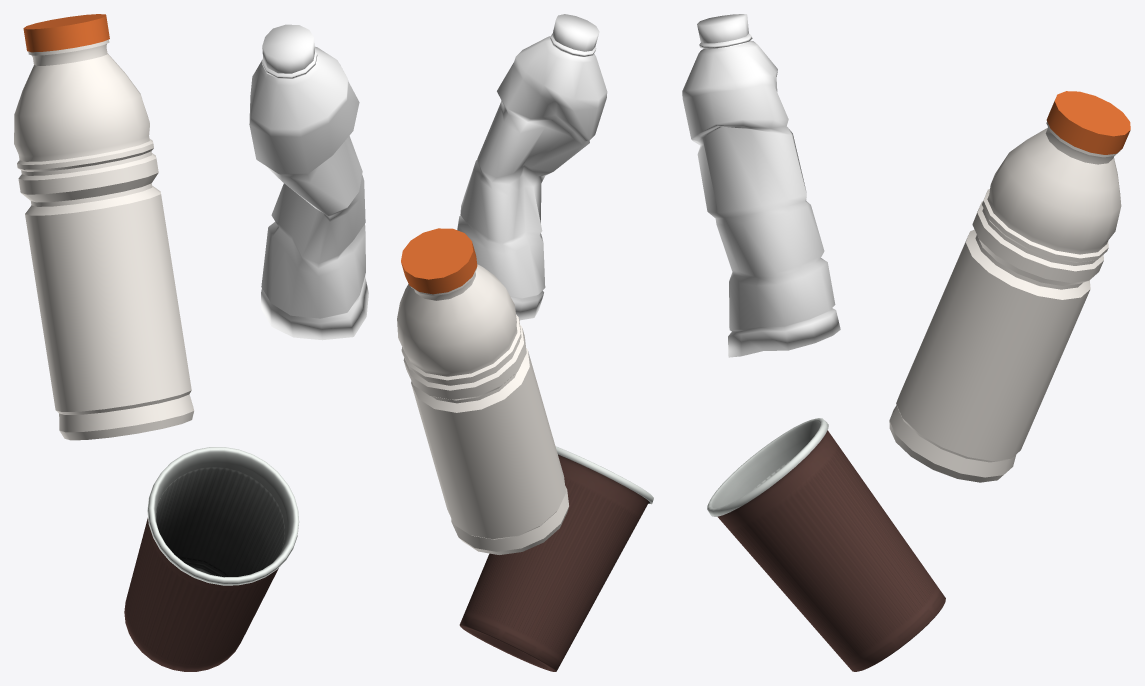
Rendered from basurero-amarillo.glb.
The picture shows the model from 3 angles, left to right: view 1: azimuth 30°, elevation 25°; view 2: azimuth 150°, elevation 25°; view 3: azimuth 270°, elevation 25°; orthographic projection. The views are drawn at different scales.
Parts seen in each view (by area): view 1: Cylinder_0, Bottle1_LP, Plastic Cup; view 2: Cylinder_0, Bottle1_LP, Plastic Cup; view 3: Cylinder_0, Bottle1_LP, Plastic Cup.
Part boxes in pixels (<box>): Cylinder_0: <box>14,14,194,440</box>; Bottle1_LP: <box>249,24,368,340</box>; Plastic Cup: <box>124,447,299,671</box>; Cylinder_0: <box>397,228,568,554</box>; Bottle1_LP: <box>457,14,607,320</box>; Plastic Cup: <box>459,446,653,671</box>; Cylinder_0: <box>889,91,1130,482</box>; Bottle1_LP: <box>682,14,840,357</box>; Plastic Cup: <box>707,418,945,671</box>.
Size of the model in its own units: 2.13 by 6.39 by 3.93.
4 materials, 1 textured.
